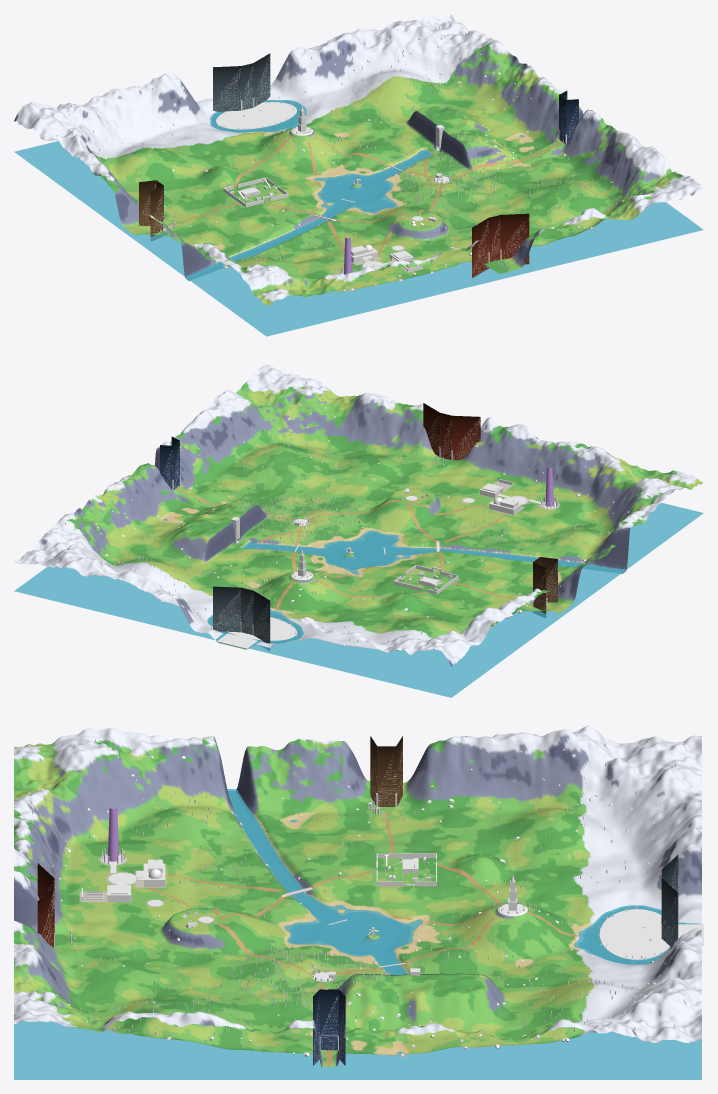
File: world_alpha.core.glb
3 views of the same model, one above another, from view 1: azimuth 30°, elevation 25°; view 2: azimuth 150°, elevation 25°; view 3: azimuth 270°, elevation 25° (orthographic). The views are drawn at different scales.
Parts seen in each view (by area): view 1: Terrain, Water, COL_Props, Seam_north_Gate, Seam_south_Gate, Seam_west_Gate, Seam_east_Gate; view 2: Terrain, Water, COL_Props, Seam_north_Gate, Seam_south_Gate, Seam_west_Gate, Seam_east_Gate; view 3: Terrain, Water, COL_Props, Seam_east_Gate, Seam_west_Gate, Seam_north_Gate, Seam_south_Gate.
Part boxes in pixels (x1,y1,x2,y2): Terrain: [14, 14, 703, 305]; Water: [14, 100, 703, 336]; COL_Props: [61, 23, 654, 291]; Seam_north_Gate: [213, 53, 270, 112]; Seam_south_Gate: [472, 213, 529, 277]; Seam_west_Gate: [139, 180, 163, 241]; Seam_east_Gate: [559, 91, 578, 143]; Terrain: [14, 365, 702, 666]; Water: [14, 502, 703, 697]; COL_Props: [45, 381, 664, 650]; Seam_north_Gate: [213, 586, 270, 650]; Seam_south_Gate: [423, 403, 480, 460]; Seam_west_Gate: [533, 557, 557, 617]; Seam_east_Gate: [160, 436, 179, 489]; Terrain: [14, 726, 701, 1066]; Water: [14, 789, 701, 1079]; COL_Props: [29, 739, 703, 1063]; Seam_east_Gate: [313, 989, 345, 1065]; Seam_west_Gate: [370, 736, 402, 806]; Seam_north_Gate: [661, 855, 678, 947]; Seam_south_Gate: [37, 863, 54, 947].
Bounding box in the file's own units: 720 × 94.73 × 722.
